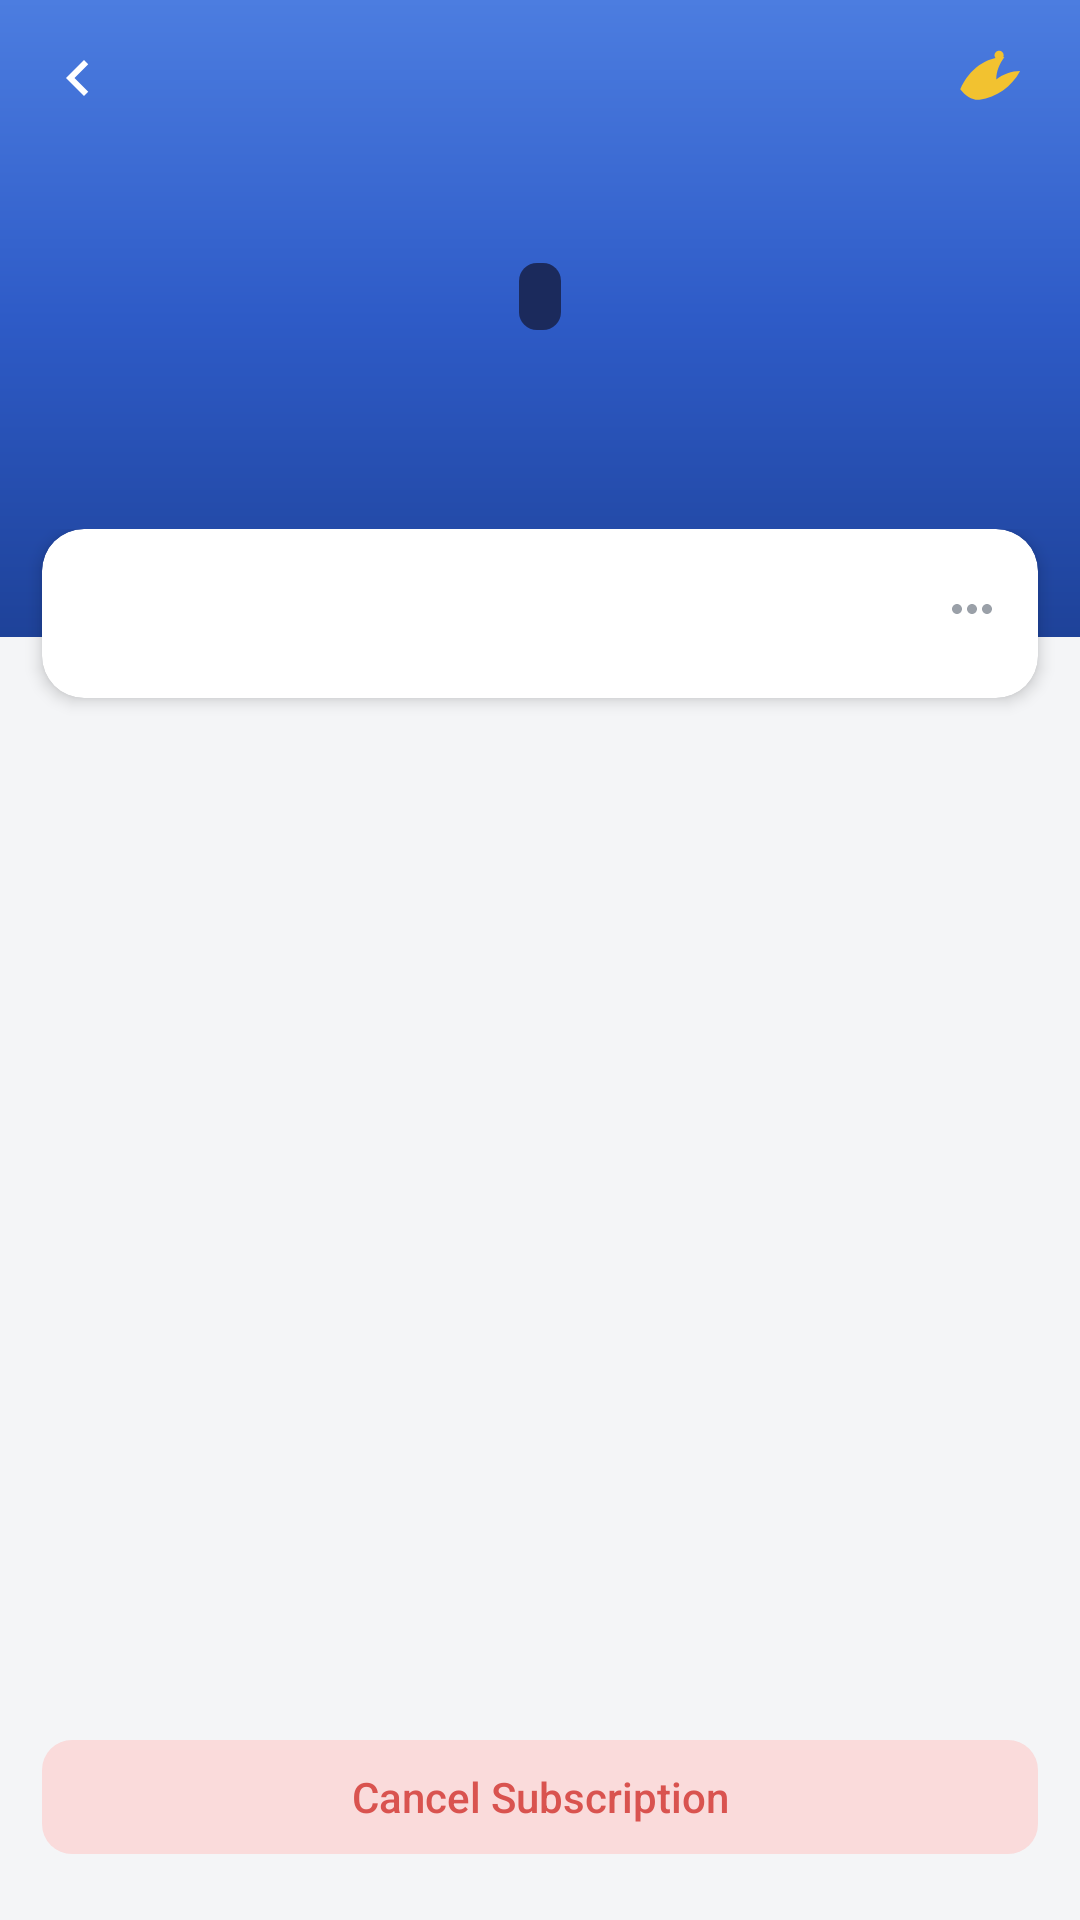

Icons on this 1080x1920 Android screen, each with its box as (x1, y1, x2, y2):
Back: (66, 60, 88, 96)
More options: (952, 604, 992, 614)
